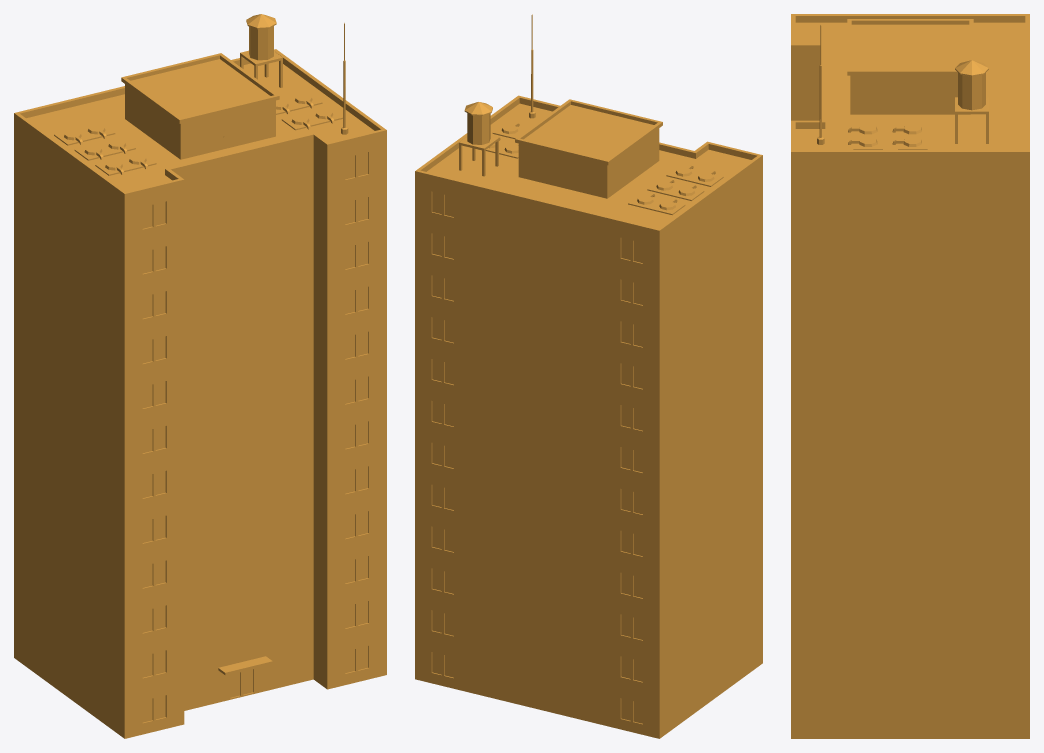
File: building-office-big.fbx
3 views of the same model, side by side, from view 1: azimuth 30°, elevation 25°; view 2: azimuth 150°, elevation 25°; view 3: azimuth 270°, elevation 25° (orthographic). The views are drawn at different scales.
Parts seen in each view (by area): view 1: building-office-big; view 2: building-office-big; view 3: building-office-big.
Part boxes in pixels (bbox=[...]): building-office-big: bbox=[14, 14, 386, 738]; building-office-big: bbox=[415, 14, 762, 738]; building-office-big: bbox=[791, 14, 1029, 738].
Size of the model in its own units: 22 by 52.08 by 16.1.
